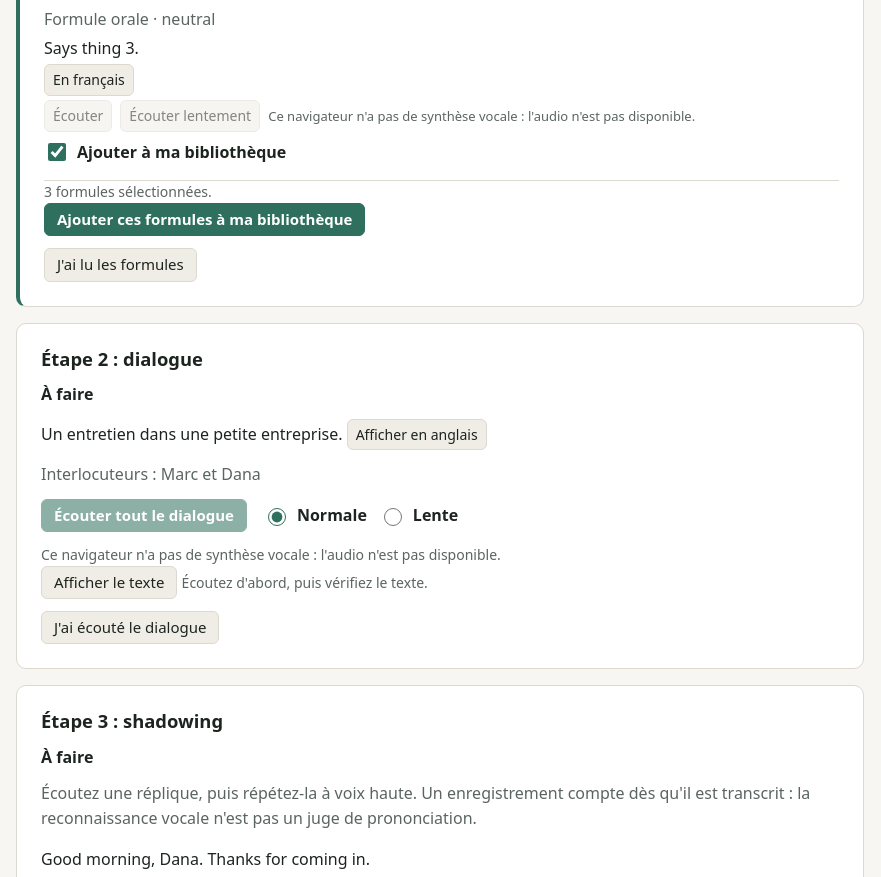
it: A scenario unit › titles the unit in French when the track gives a French title
(page scrolled)
Expected: the text "Un entretien dans une petite entreprise." is shown, left=41, top=422, right=342, bottom=444
# The English setting on demand.
Click the button "Afficher en anglais". click: (417, 434)
box: left=347, top=418, right=487, bottom=450
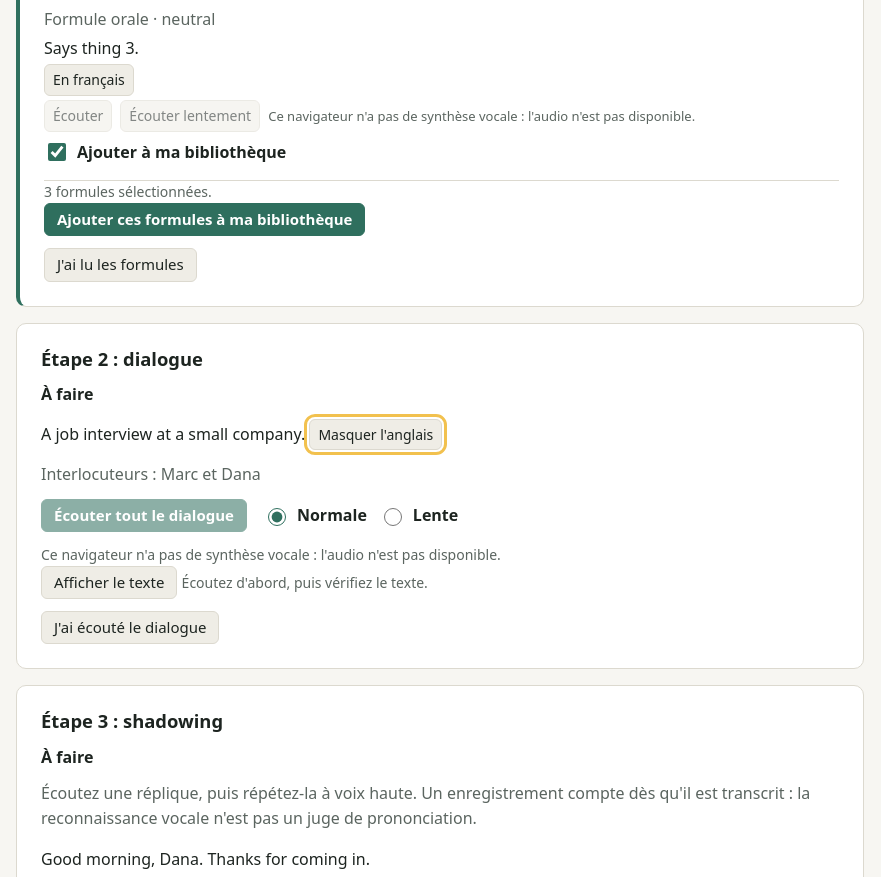
Result: the text "A job interview at a small company." is shown at left=41, top=422, right=305, bottom=444
